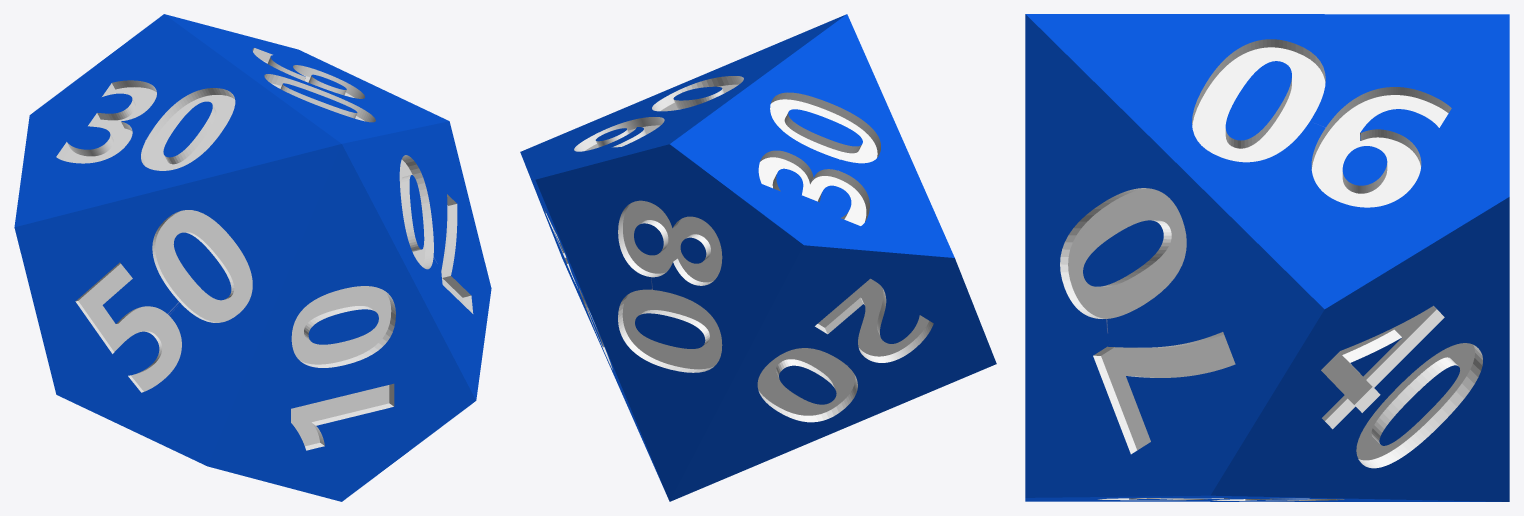
The picture shows the model from 3 angles, left to right: view 1: azimuth 30°, elevation 25°; view 2: azimuth 150°, elevation 25°; view 3: azimuth 270°, elevation 25°; orthographic projection. The views are drawn at different scales.
Visible parts, largest first — view 1: d100; view 2: d100; view 3: d100.
Boxes of the visible parts, x1,y1,x2,y2 form: d100: (14, 14, 491, 501); d100: (520, 14, 996, 501); d100: (1025, 14, 1509, 501).
Size of the model in its own units: 2.6 by 2.05 by 1.84.
1 material, 1 textured.
